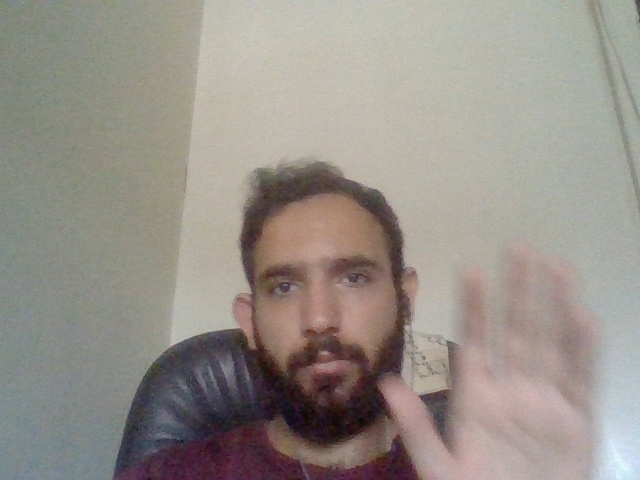Goodbye: (382, 241, 608, 480)
